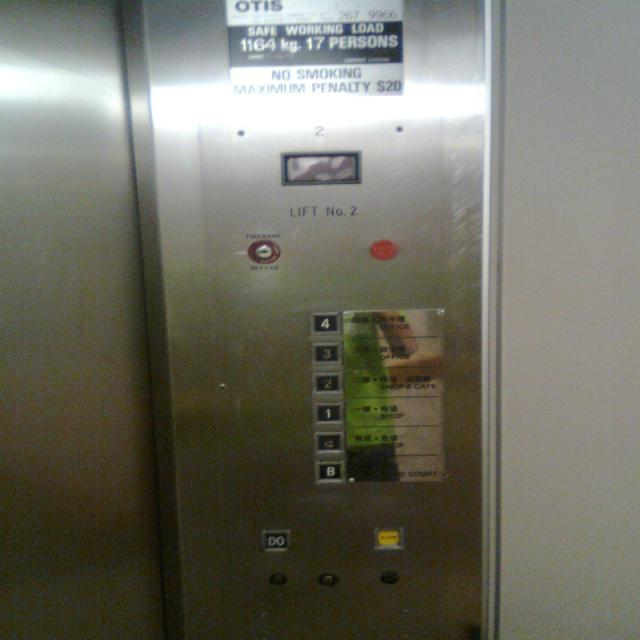1: (310, 401, 346, 426)
2: (309, 370, 344, 396)
3: (308, 340, 343, 366)
4: (308, 311, 342, 336)
B: (311, 459, 346, 485)
DO: (258, 528, 291, 553)
blur: (312, 430, 346, 456)
keyhole: (248, 240, 280, 264)
led: (279, 151, 362, 186)
text_alarm bell: (372, 526, 406, 550)
text_blur: (369, 239, 398, 260)
